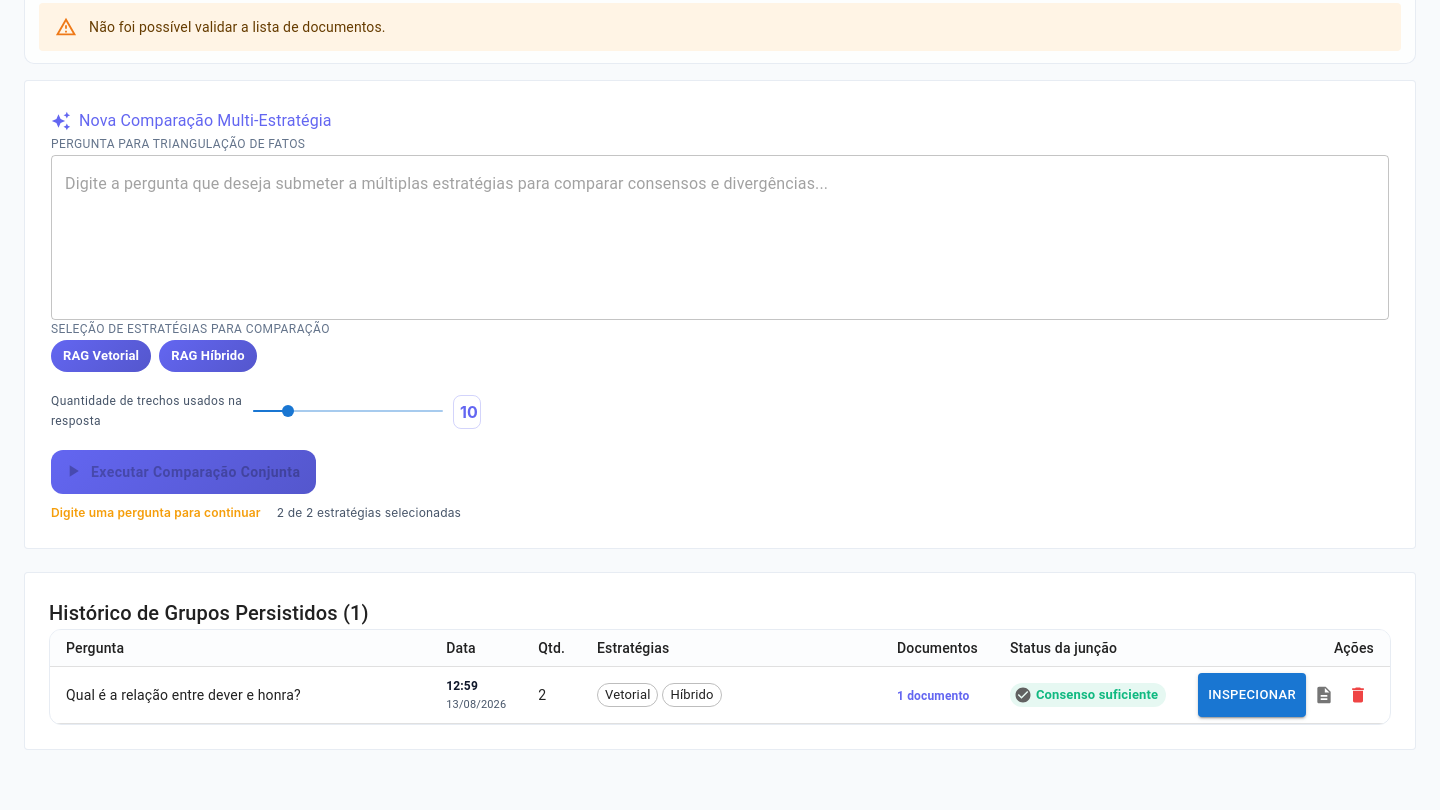
Scenario: exclusão de grupos persistidos › mantém o grupo quando o backend recusa a exclusão
(page scrolled)
Click the button named "Excluir comparação" at (1358, 695), box [1342,673,1374,717]
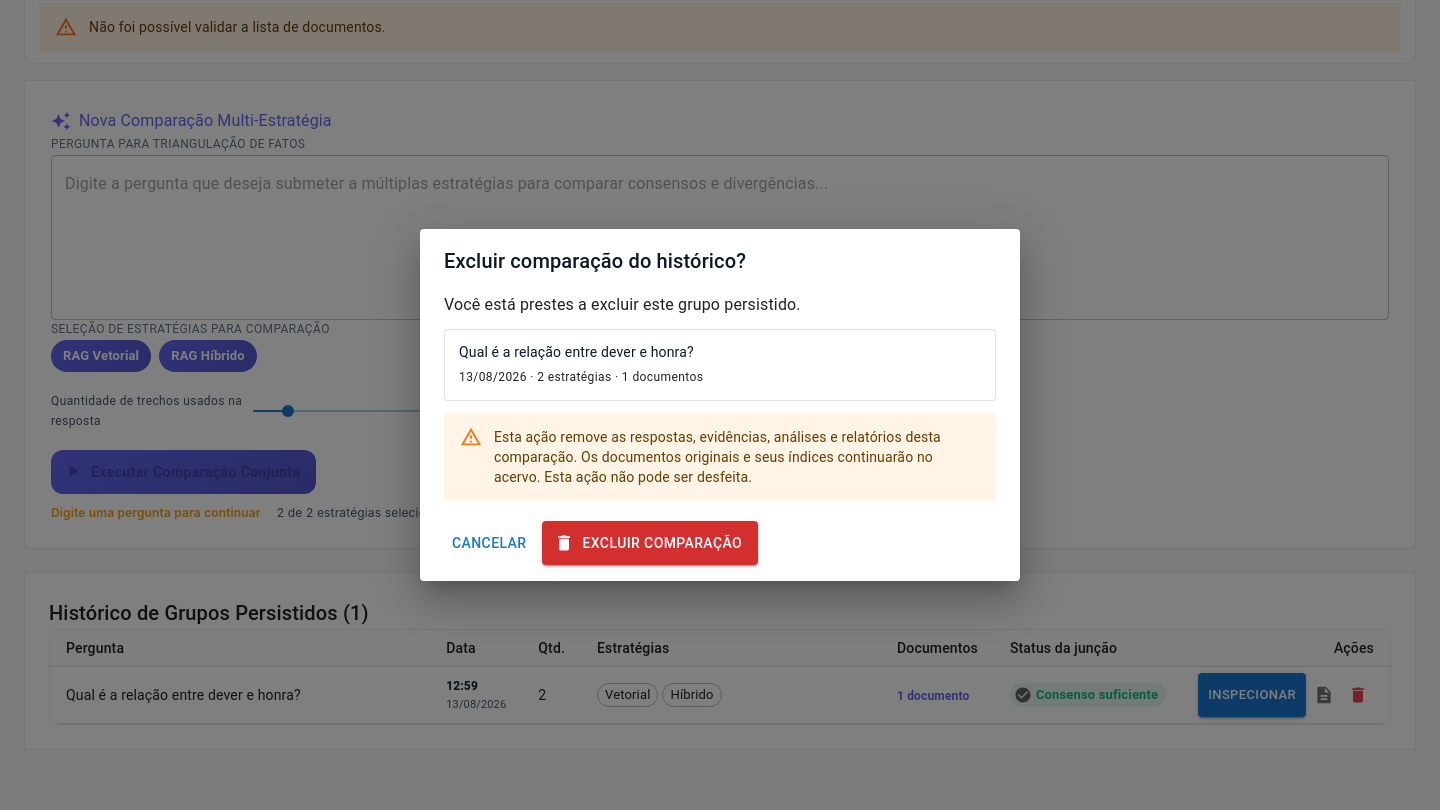
Click the button "Excluir comparação" at (650, 543), box [542,521,758,565]
(page scrolled)
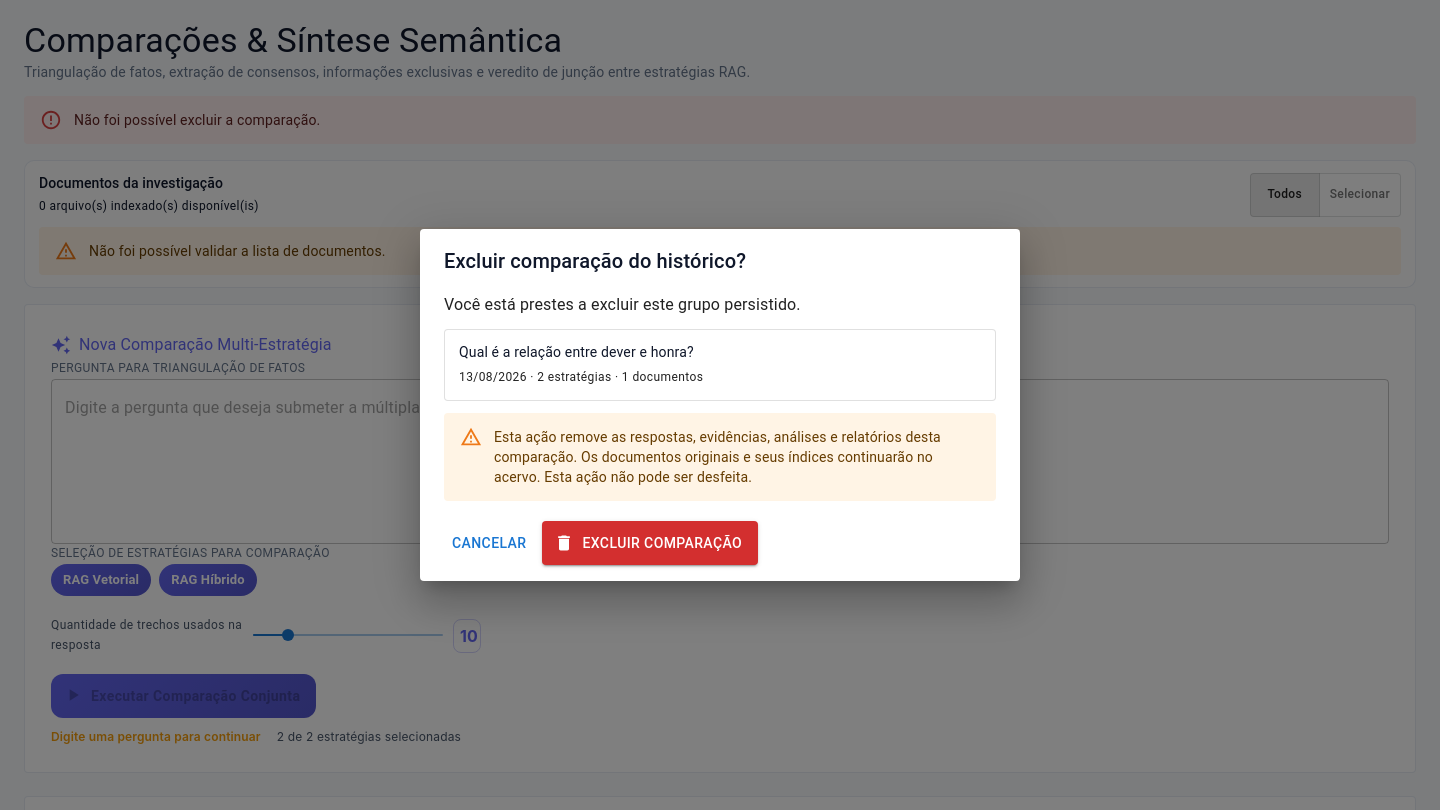
expect the text "Não foi possível excluir a comparação." is shown: met, box [74,112,320,128]
